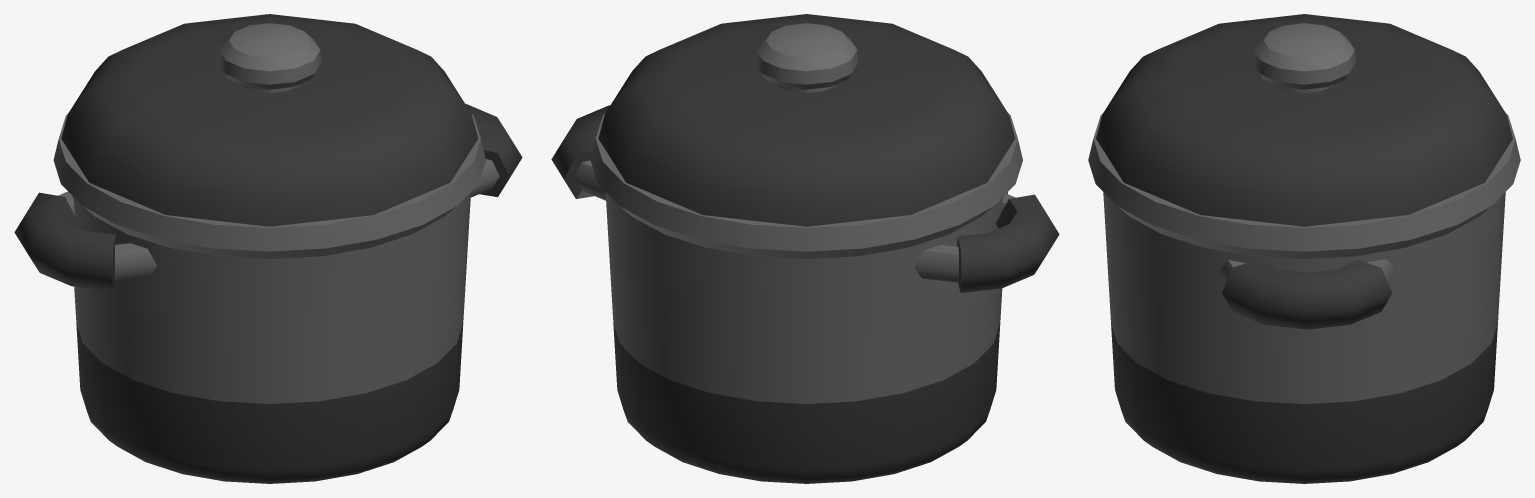
The model's file is Stock_Pot_01.fbx.
The picture shows the model from 3 angles, left to right: view 1: azimuth 30°, elevation 25°; view 2: azimuth 150°, elevation 25°; view 3: azimuth 270°, elevation 25°; orthographic projection.
Parts seen in each view (by area): view 1: Stock_Pot_01, Stock_Pot_01_Lid; view 2: Stock_Pot_01, Stock_Pot_01_Lid; view 3: Stock_Pot_01, Stock_Pot_01_Lid.
Boxes of the visible parts, <box> form: Stock_Pot_01: <box>14,103,522,483</box>; Stock_Pot_01_Lid: <box>61,14,478,226</box>; Stock_Pot_01: <box>551,105,1059,483</box>; Stock_Pot_01_Lid: <box>598,14,1015,226</box>; Stock_Pot_01: <box>1088,113,1520,483</box>; Stock_Pot_01_Lid: <box>1096,14,1512,226</box>.
Size of the model in its own units: 93.01 by 69.68 by 72.42.
